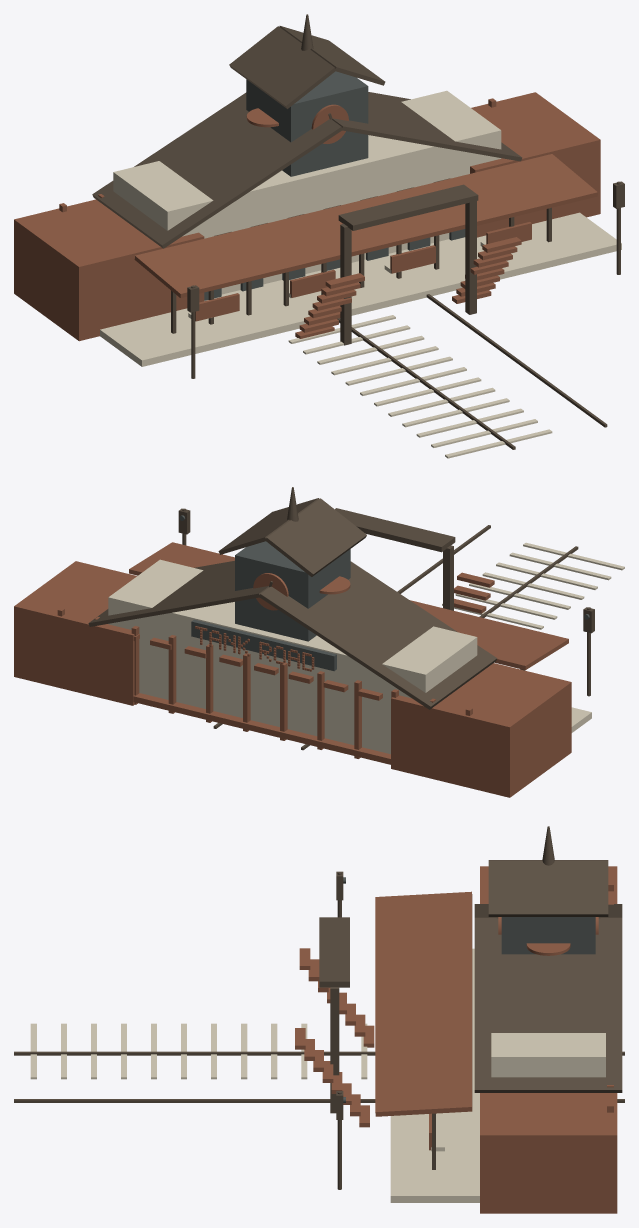
File: tank-road-railway-station.glb
3 renders of one model, top to bottom at view 1: azimuth 30°, elevation 25°; view 2: azimuth 150°, elevation 25°; view 3: azimuth 270°, elevation 25°, orthographic. The views are drawn at different scales.
Parts seen in each view (by area): view 1: station-wings/form (×2), platform-canopy/form, station-range/form, passenger-platform/form, hipped-roofs/main-roof-left, clock-tower/form, hipped-roofs/tower-roof-left, hipped-roofs/main-roof-right, iron-footbridge/form, rail-tracks/form (×2), hipped-roofs/tower-roof-right, iron-footbridge/bridge-pier-2 (+6 smaller); view 2: station-wings/form (×2), station-range/form, hipped-roofs/main-roof-left, clock-tower/form, platform-canopy/form, hipped-roofs/tower-roof-left, hipped-roofs/main-roof-right, completed-street-facade/street-plinth, completed-street-facade/station-name-board, iron-footbridge/form, hipped-roofs/tower-roof-right, rail-tracks/form (×2) (+13 smaller); view 3: platform-canopy/form, hipped-roofs/main-roof-right, station-wings/form (×2), passenger-platform/form, hipped-roofs/tower-roof-right, station-range/form, clock-tower/form, rail-tracks/form (×2), iron-footbridge/form, iron-footbridge/bridge-pier-2.
Boxes of the visible parts, x1=… form: station-wings/form (×2): x1=14, y1=92, x2=600, y2=341; platform-canopy/form: x1=134, y1=154, x2=597, y2=298; station-range/form: x1=113, y1=90, x2=501, y2=294; passenger-platform/form: x1=100, y1=212, x2=621, y2=366; hipped-roofs/main-roof-left: x1=92, y1=92, x2=342, y2=248; clock-tower/form: x1=246, y1=71, x2=368, y2=176; hipped-roofs/tower-roof-left: x1=229, y1=26, x2=336, y2=108; hipped-roofs/main-roof-right: x1=332, y1=92, x2=522, y2=161; iron-footbridge/form: x1=338, y1=184, x2=478, y2=230; rail-tracks/form (×2): x1=337, y1=294, x2=607, y2=449; hipped-roofs/tower-roof-right: x1=279, y1=26, x2=385, y2=85; iron-footbridge/bridge-pier-2: x1=465, y1=201, x2=476, y2=314; station-wings/form (×2): x1=14, y1=561, x2=571, y2=797; station-range/form: x1=108, y1=559, x2=477, y2=754; hipped-roofs/main-roof-left: x1=259, y1=561, x2=497, y2=709; clock-tower/form: x1=235, y1=541, x2=350, y2=641; platform-canopy/form: x1=129, y1=542, x2=568, y2=670; hipped-roofs/tower-roof-left: x1=265, y1=498, x2=366, y2=576; hipped-roofs/main-roof-right: x1=88, y1=560, x2=268, y2=626; completed-street-facade/street-plinth: x1=133, y1=693, x2=390, y2=764; completed-street-facade/station-name-board: x1=191, y1=619, x2=336, y2=671; iron-footbridge/form: x1=335, y1=508, x2=455, y2=552; hipped-roofs/tower-roof-right: x1=218, y1=498, x2=319, y2=554; rail-tracks/form (×2): x1=213, y1=525, x2=578, y2=750; platform-canopy/form: x1=375, y1=891, x2=472, y2=1116; hipped-roofs/main-roof-right: x1=474, y1=918, x2=622, y2=1092; station-wings/form (×2): x1=480, y1=866, x2=617, y2=1213; passenger-platform/form: x1=390, y1=948, x2=479, y2=1202; hipped-roofs/tower-roof-right: x1=488, y1=860, x2=608, y2=916; station-range/form: x1=491, y1=1033, x2=605, y2=1077; clock-tower/form: x1=501, y1=917, x2=595, y2=954; rail-tracks/form (×2): x1=14, y1=1051, x2=624, y2=1102; iron-footbridge/form: x1=319, y1=917, x2=349, y2=987; iron-footbridge/bridge-pier-2: x1=330, y1=987, x2=339, y2=1113.
Size of the model in its own units: 25 by 10.95 by 24.
